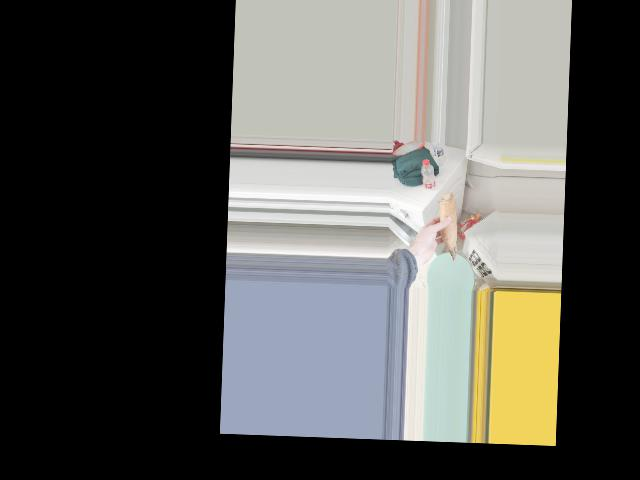sweet_potato: (437, 196, 458, 259)
